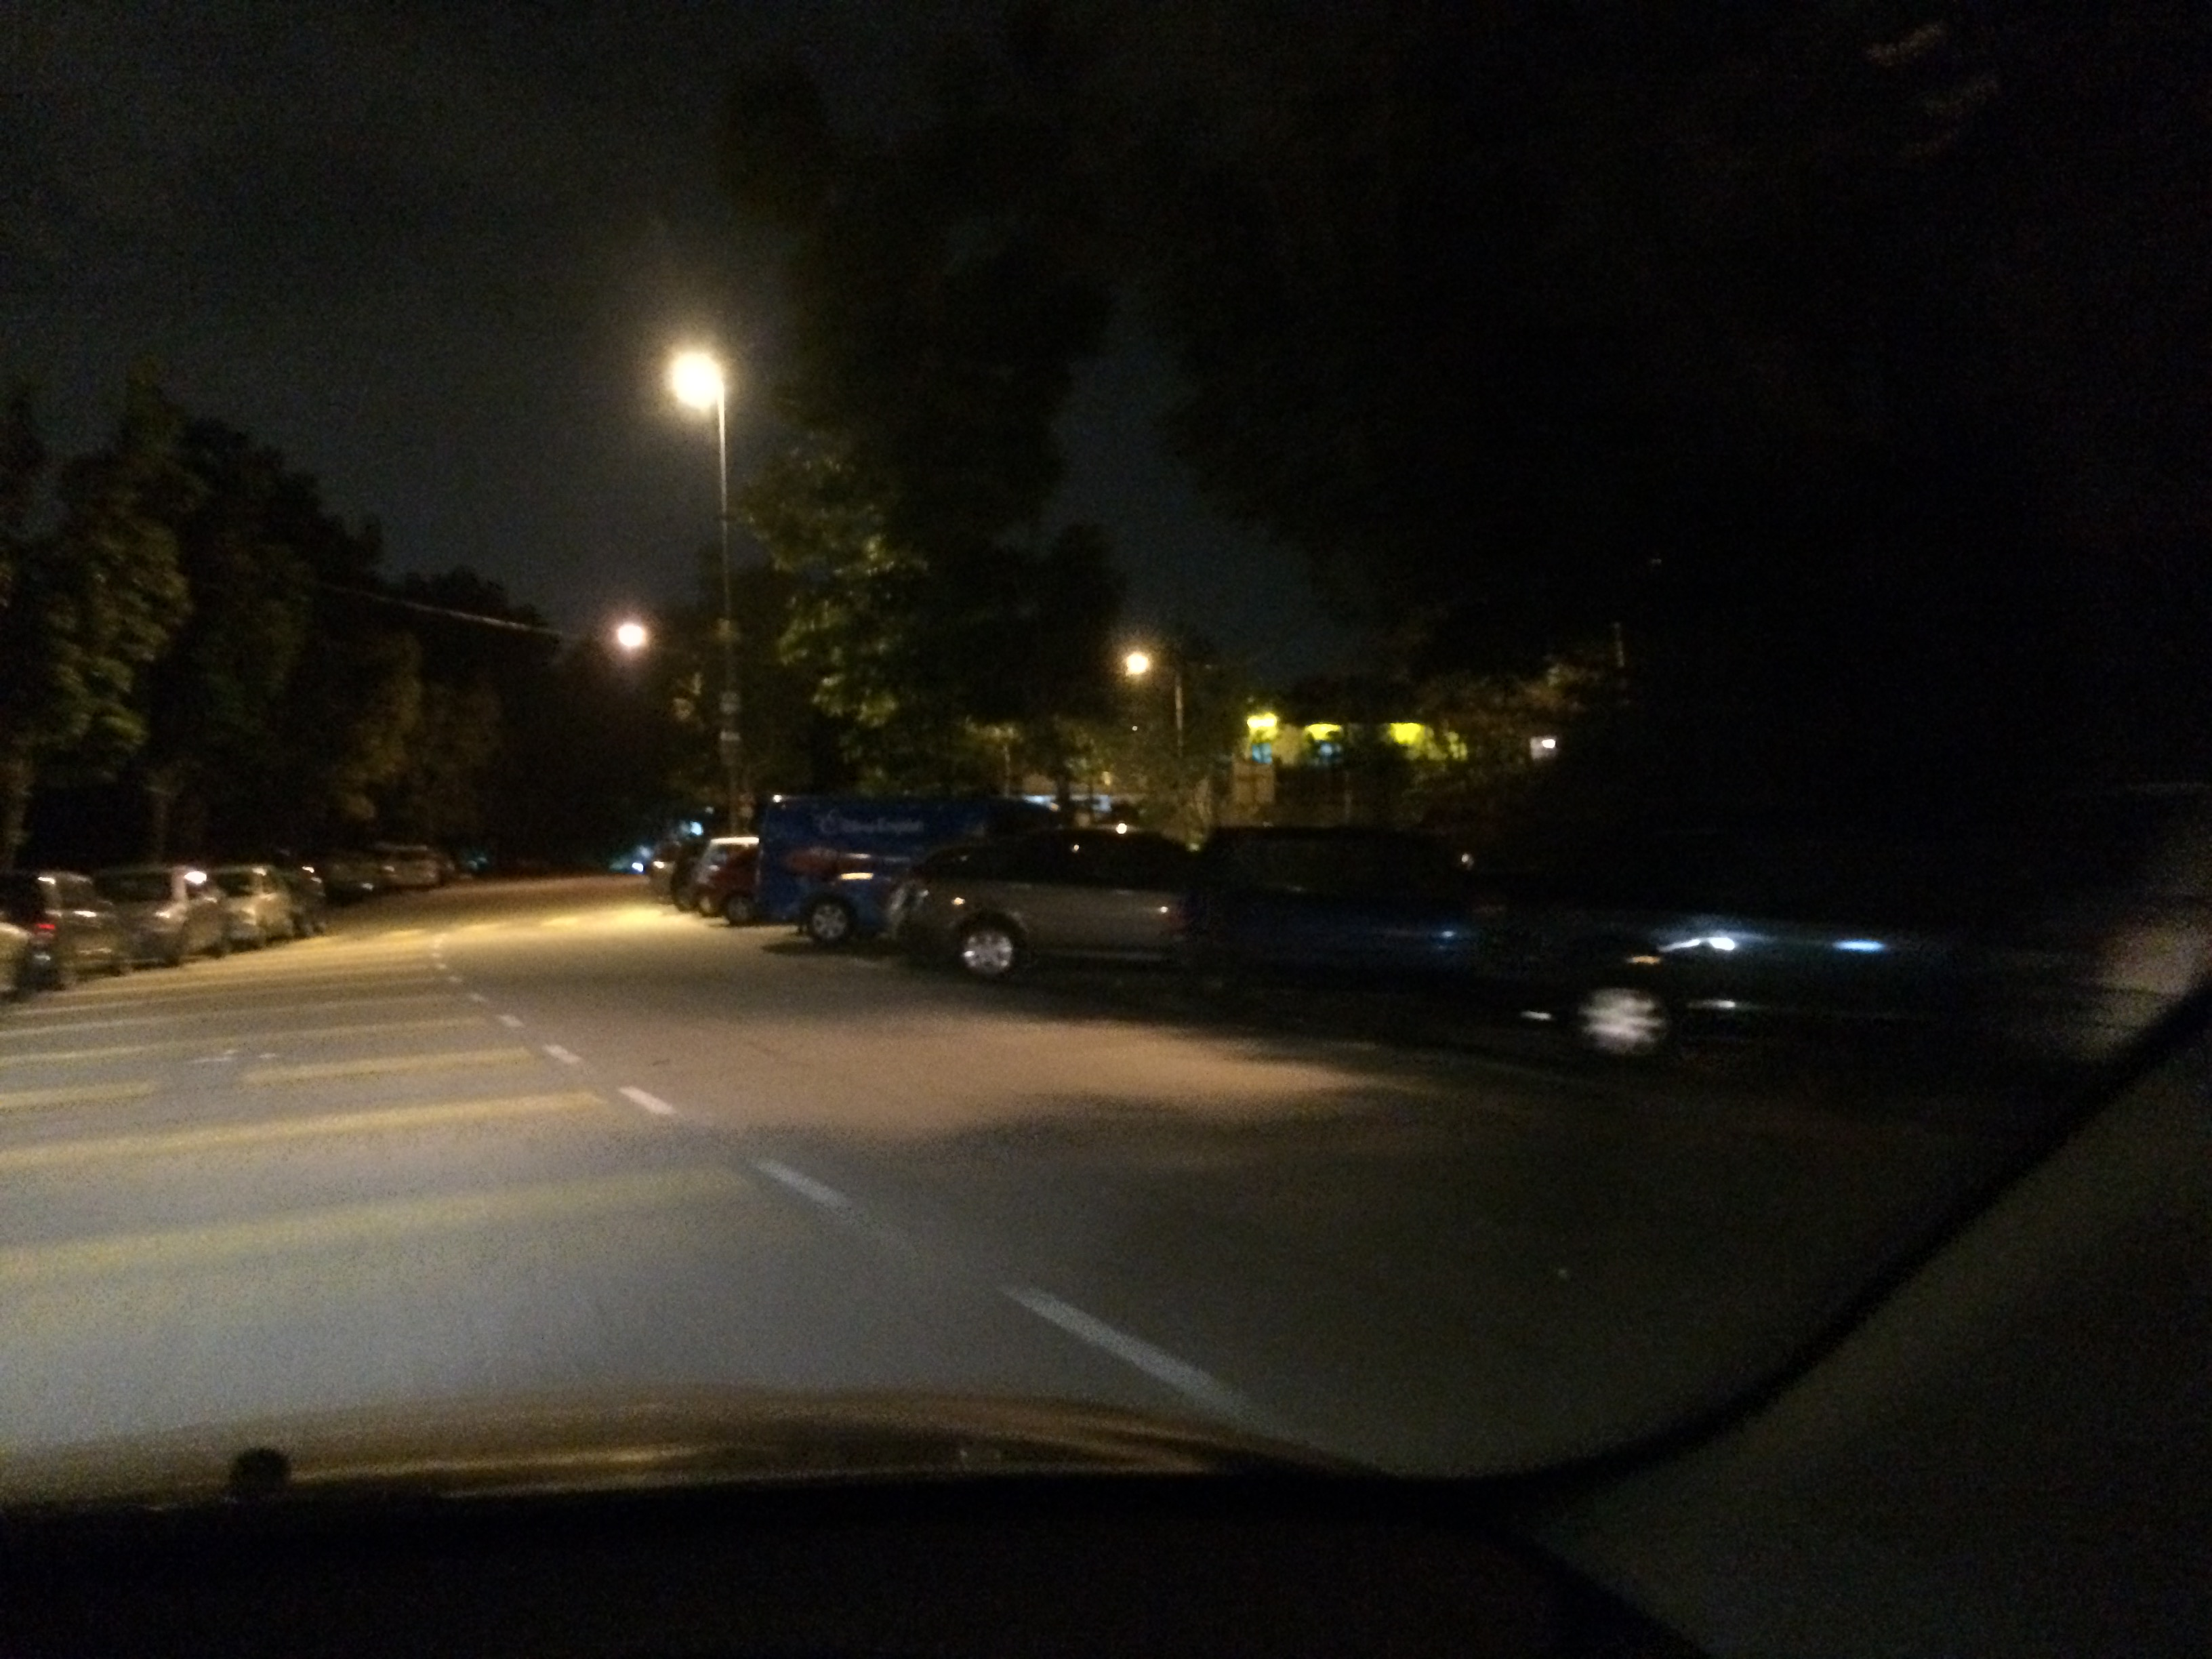car: (887, 789, 1219, 1000)
